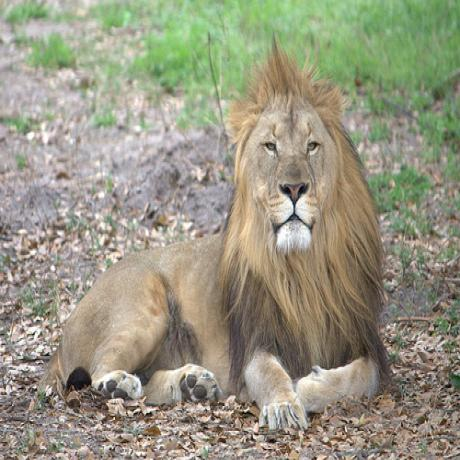Lion: (45, 35, 385, 435)
